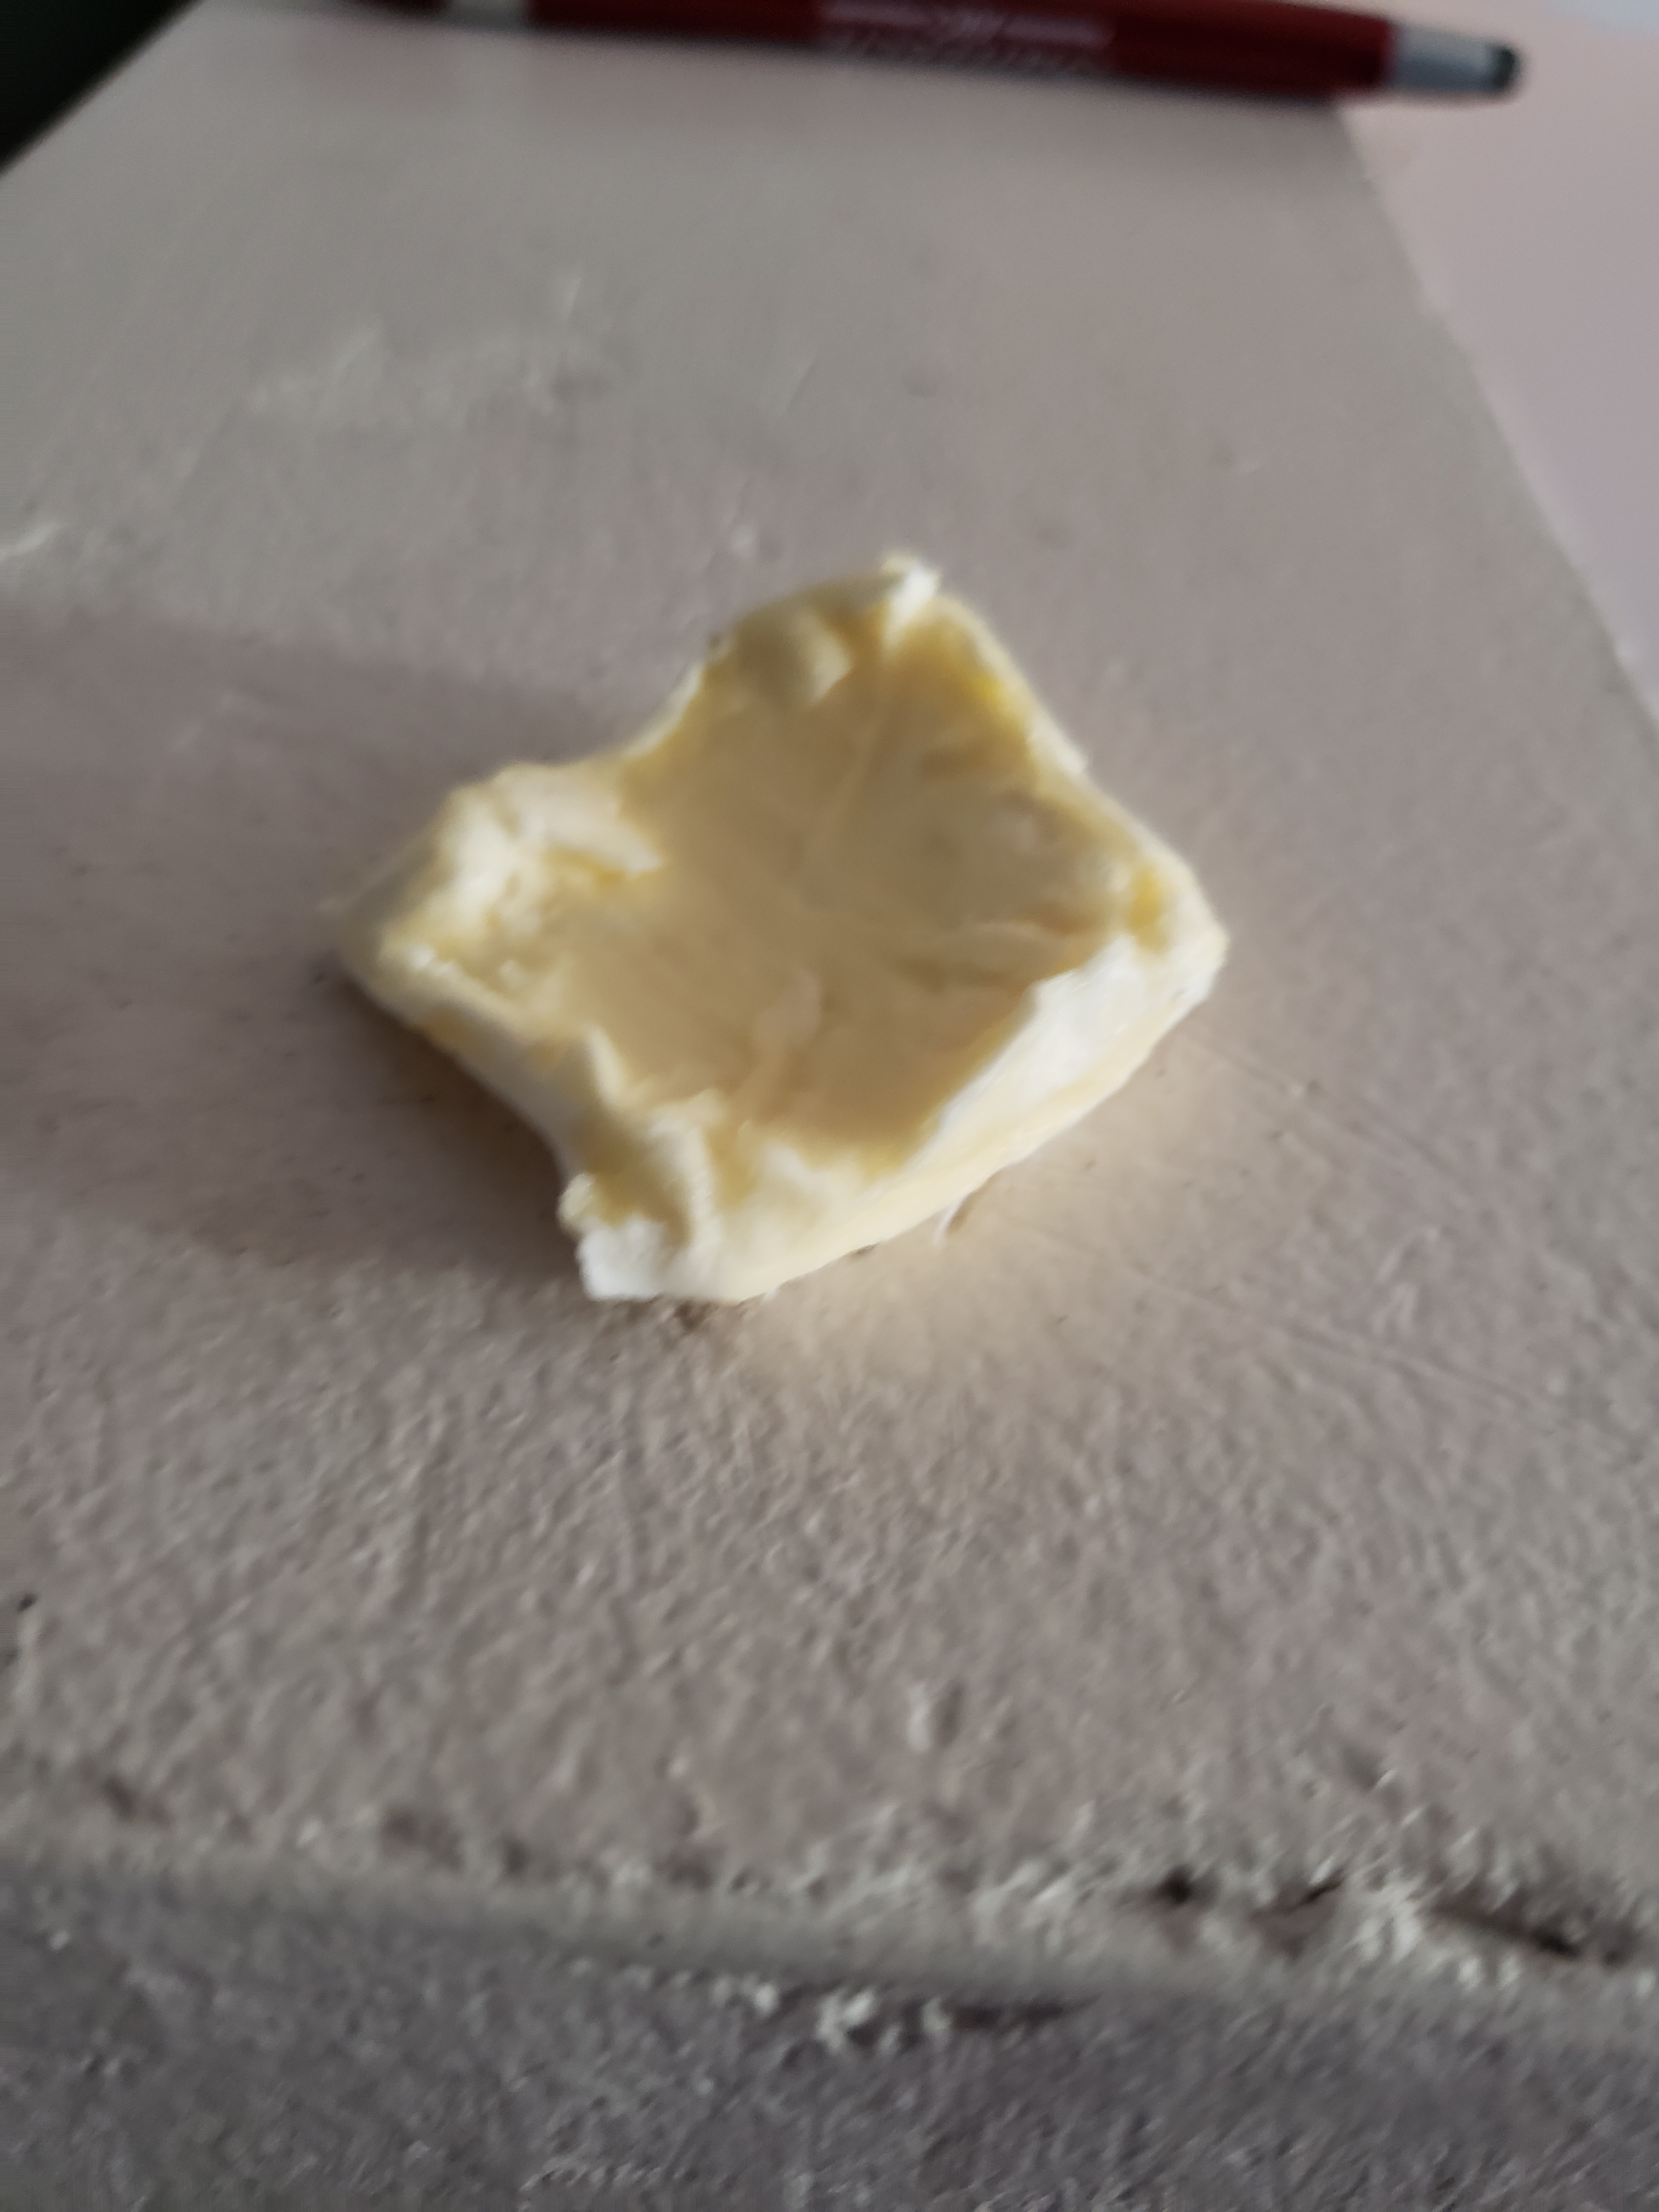Butter: (322, 564, 1229, 1299)
